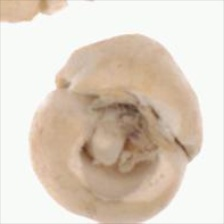L3: (75, 91, 175, 170)
L4: (29, 34, 203, 223)
